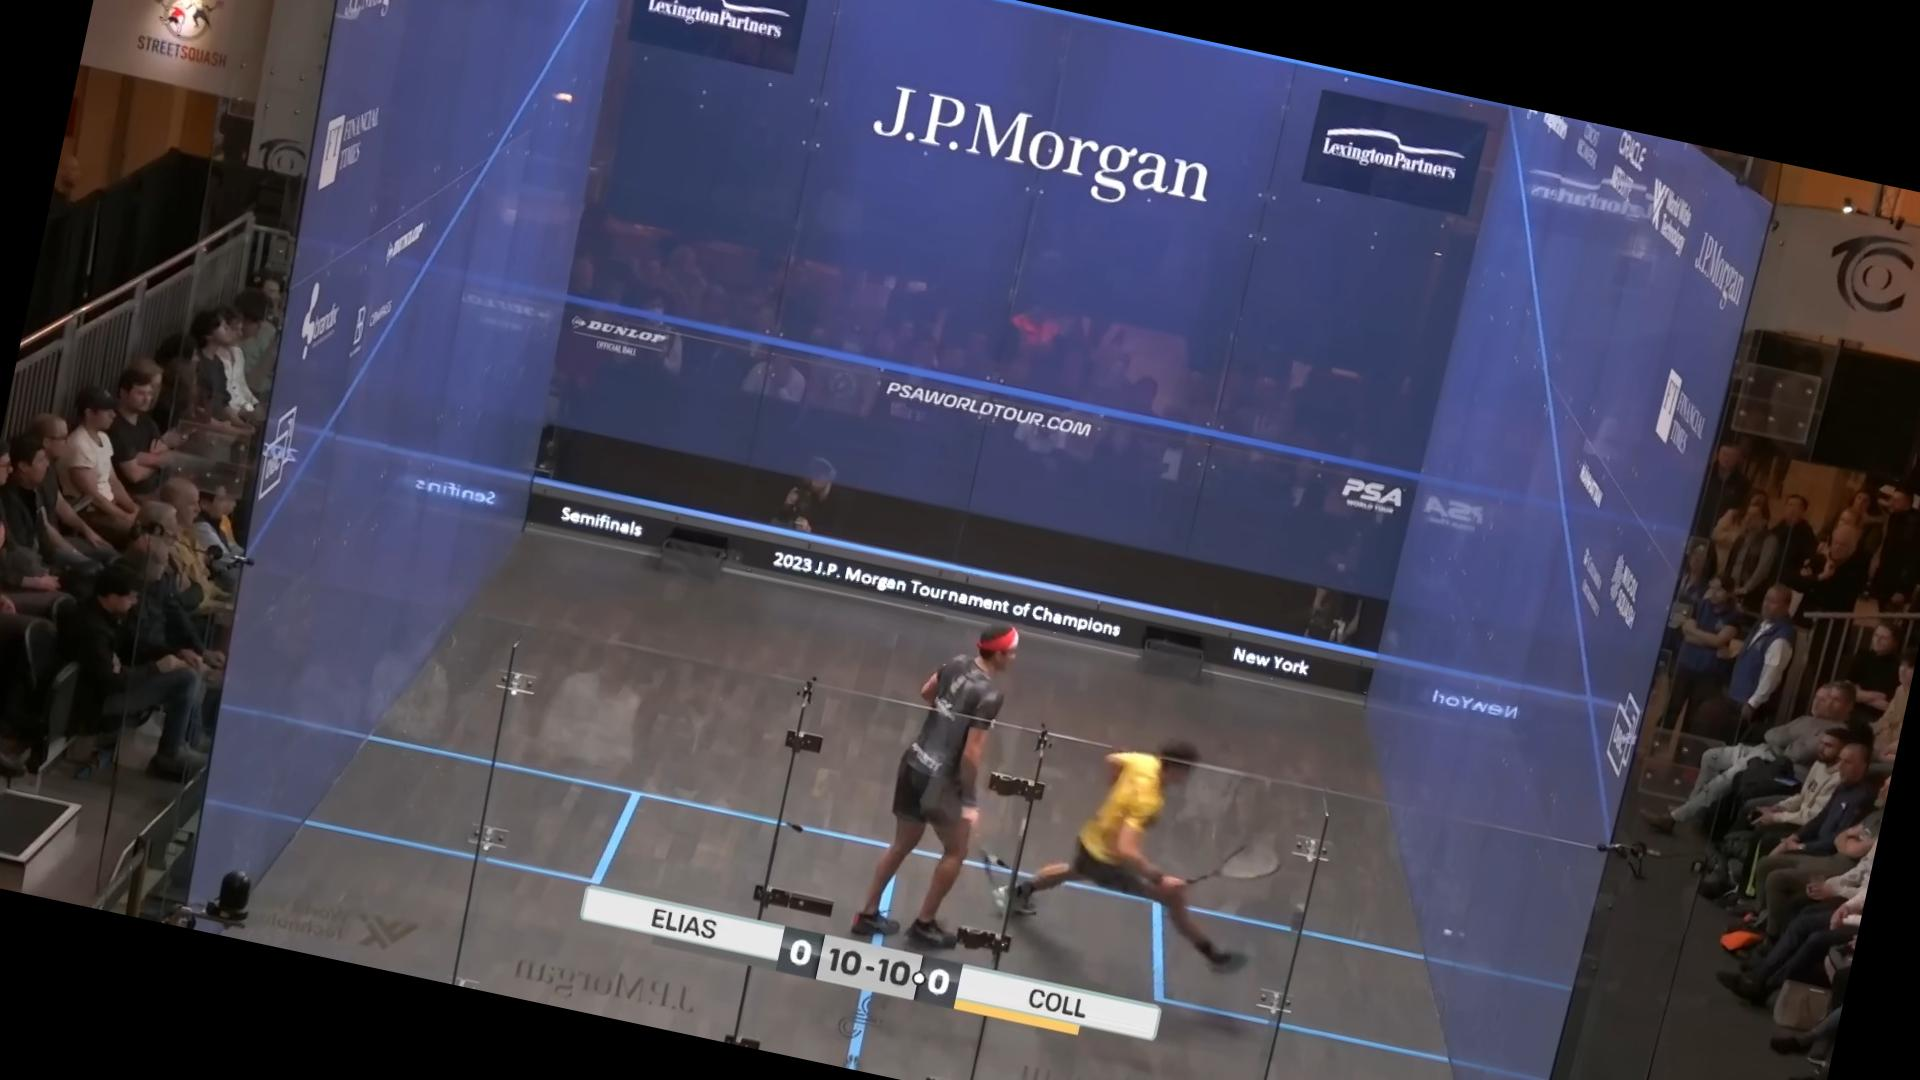Racket: (1185, 807, 1298, 911), (957, 829, 1051, 920)
